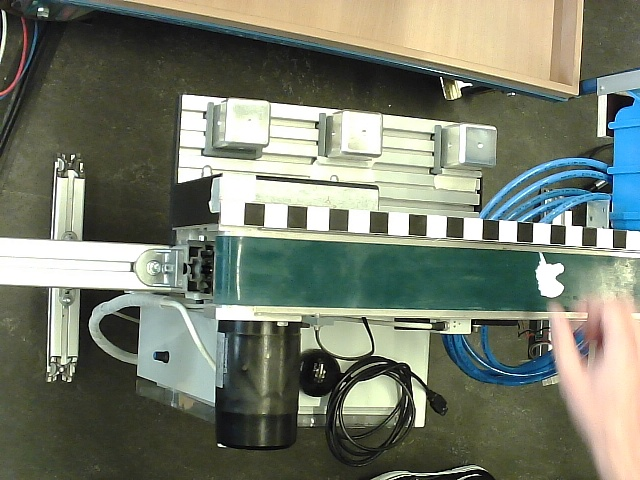unicorn: (535, 252, 566, 299)
